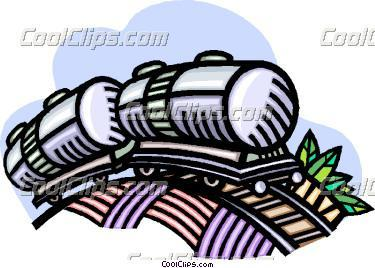train: (3, 53, 307, 211)
